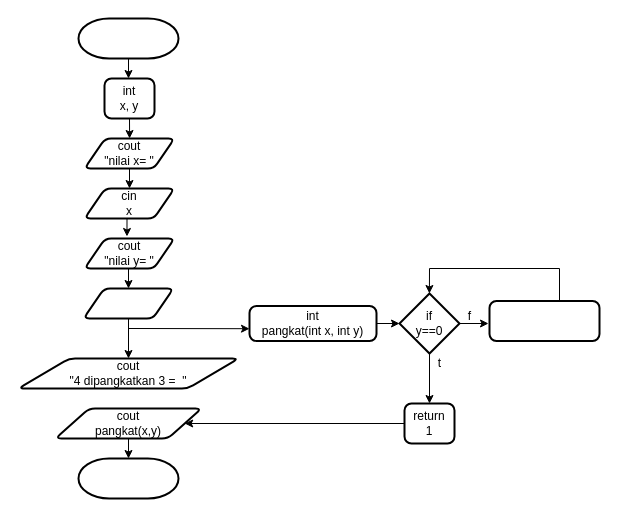
Some shapes in this 617 by 516 pixel diagram are drawn without their labels. Each missing label, with the centre of its shape:
"cin y" belongs at (x=128, y=303).
"End" belongs at (x=128, y=478).
"return x * pangkat(x,y-1)" belongs at (x=544, y=321).
"Start" belongs at (x=128, y=38).
